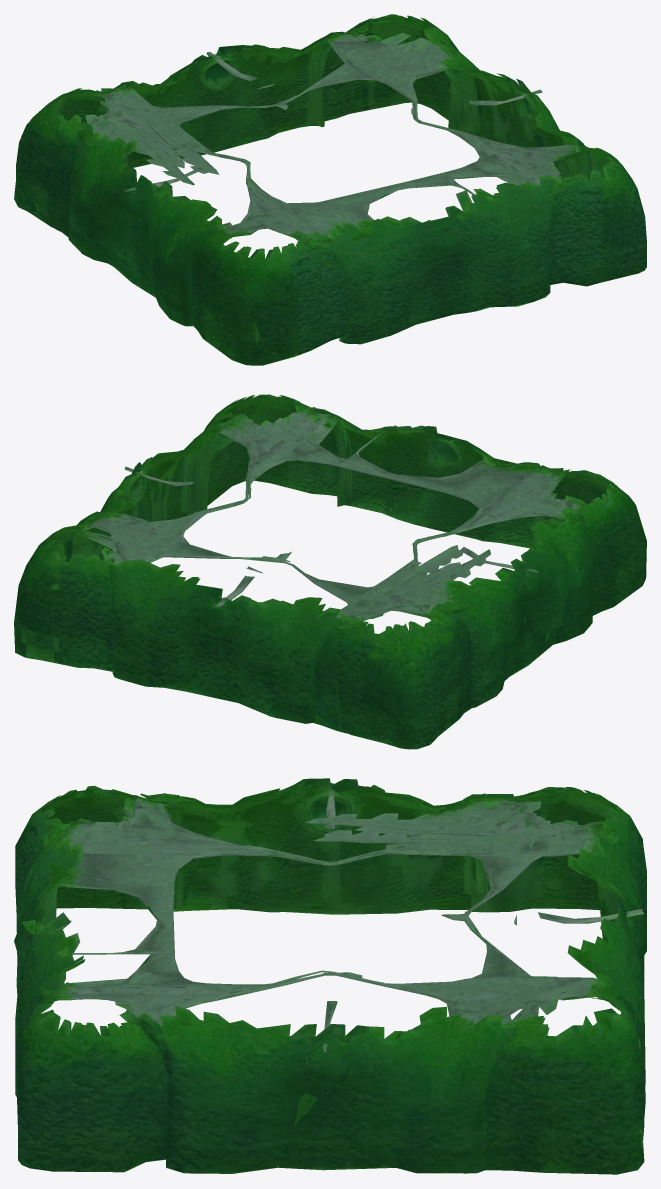
Rendered from mountains_jungle.glb.
3 views of the same model, one above another, from view 1: azimuth 30°, elevation 25°; view 2: azimuth 150°, elevation 25°; view 3: azimuth 270°, elevation 25° (orthographic). The views are drawn at different scales.
Parts seen in each view (by area): view 1: 0; view 2: 0; view 3: 0.
Part boxes in pixels (x1,y1,x2,y2): 0: (14, 14, 646, 365); 0: (14, 394, 646, 749); 0: (14, 778, 646, 1174).
Size of the model in its own units: 1.91 by 0.4854 by 1.91.
Materials: 1 (1 with a texture image).
